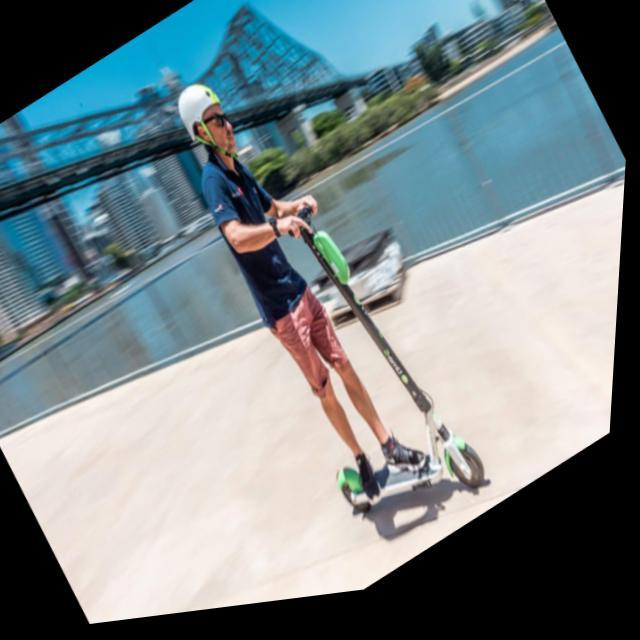Helmet: (174, 75, 240, 162)
